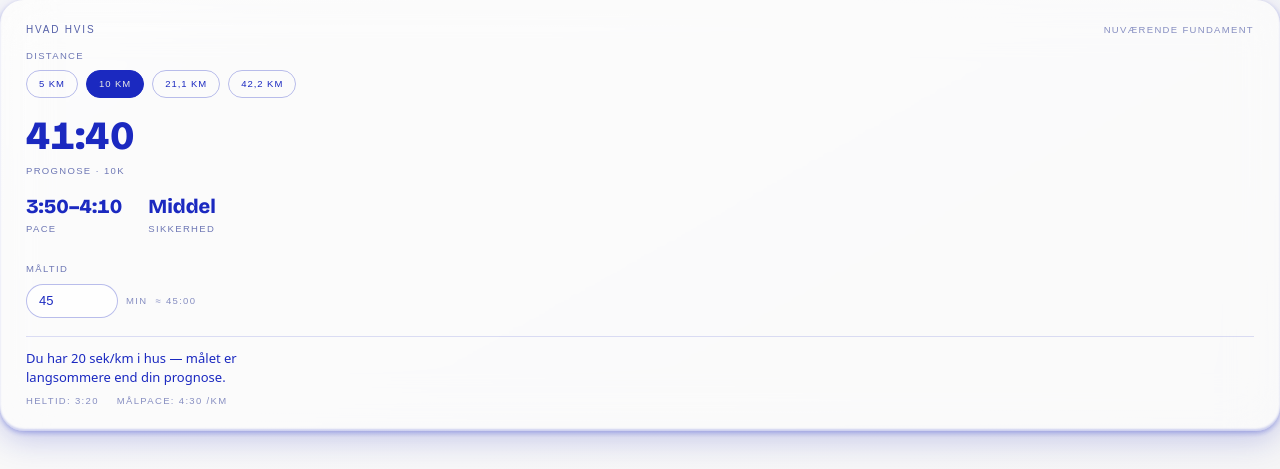
Test case: WhatIfCard — goal and gap › re-reads the gap when the goal is adjusted
This screenshot has width=1280, height=469.
Replace the text in the number field labelled "Måltid" with "40" at (72, 301), box [26, 284, 118, 318]
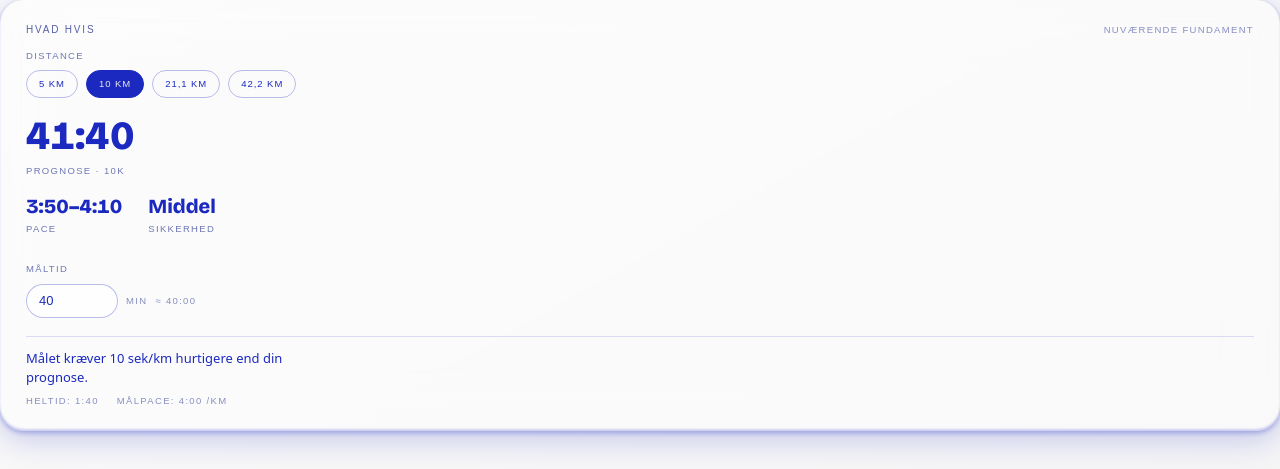
Expected: the text with test id "whatif-gap" reads "Målet kræver 10 sek/km hurtigere end din prognose.", [26, 349, 282, 386]
